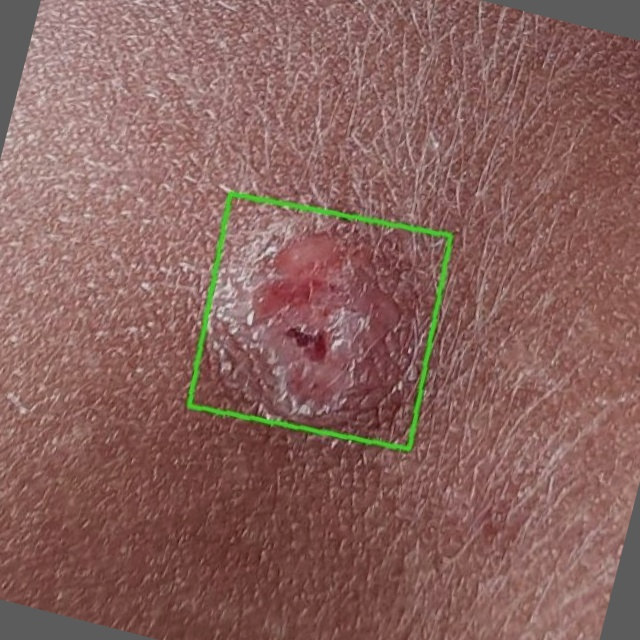Contact Dermatitis: (188, 193, 449, 449)
